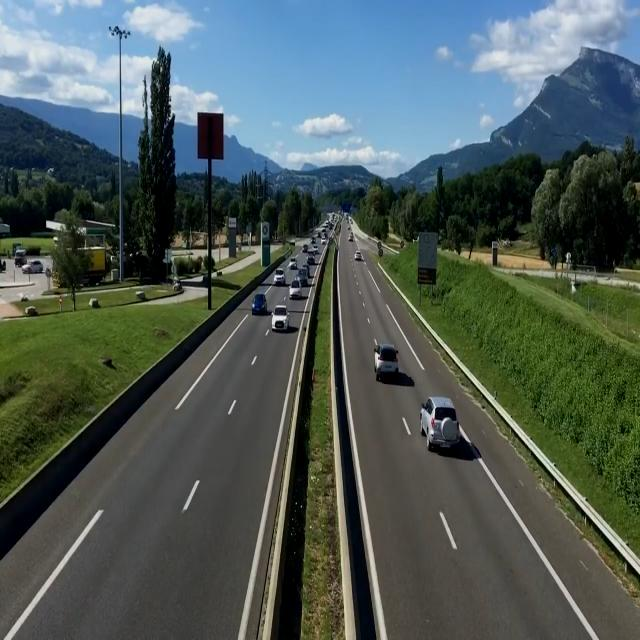Car: (420, 396, 460, 452), (373, 343, 401, 382), (271, 304, 291, 331), (21, 259, 44, 274), (252, 294, 267, 314), (288, 279, 302, 299), (273, 268, 286, 286), (290, 257, 297, 269), (354, 250, 362, 260), (301, 245, 308, 252), (321, 236, 326, 244)
